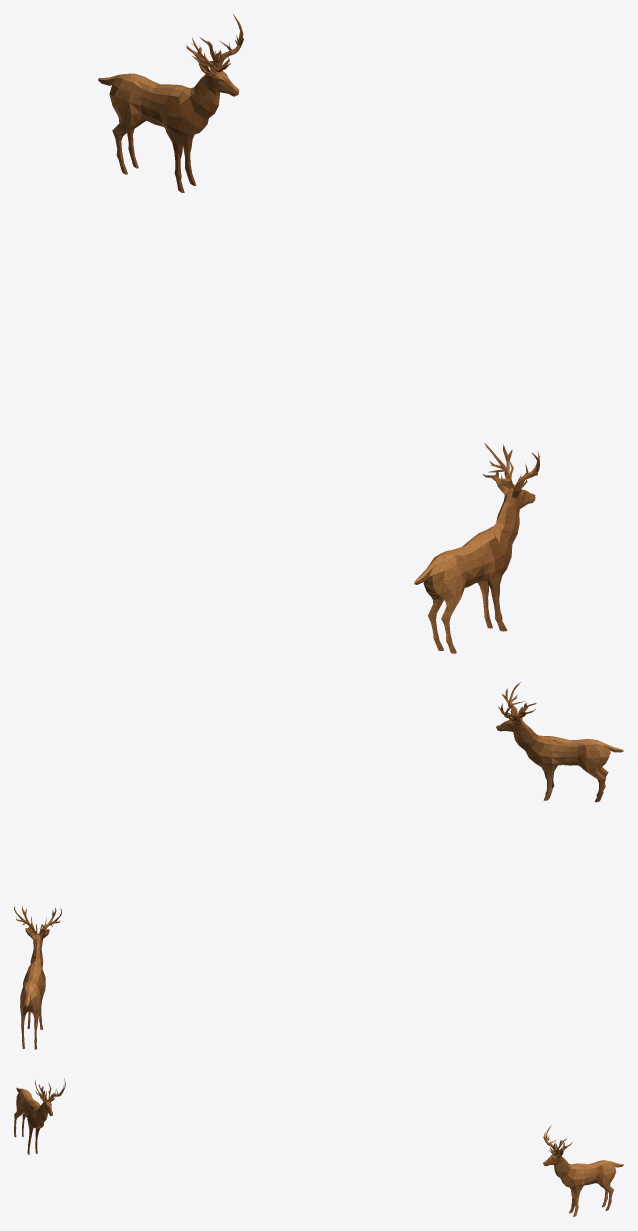
The model's file is deer_him.obj.
The picture shows the model from 3 angles, top to bottom: view 1: azimuth 30°, elevation 25°; view 2: azimuth 150°, elevation 25°; view 3: azimuth 270°, elevation 25°; orthographic projection. The views are drawn at different scales.
Visible parts, largest first — view 1: grp1_grp1_2.000_grp1_grp1_2.002; view 2: grp1_grp1_2.000_grp1_grp1_2.002; view 3: grp1_grp1_2.000_grp1_grp1_2.002.
Boxes of the visible parts, <box> form: grp1_grp1_2.000_grp1_grp1_2.002: <box>98,14,539,653</box>; grp1_grp1_2.000_grp1_grp1_2.002: <box>14,682,623,1049</box>; grp1_grp1_2.000_grp1_grp1_2.002: <box>14,1078,623,1216</box>.
Bounding box in the file's own units: 33.58 × 15.24 × 95.4.
